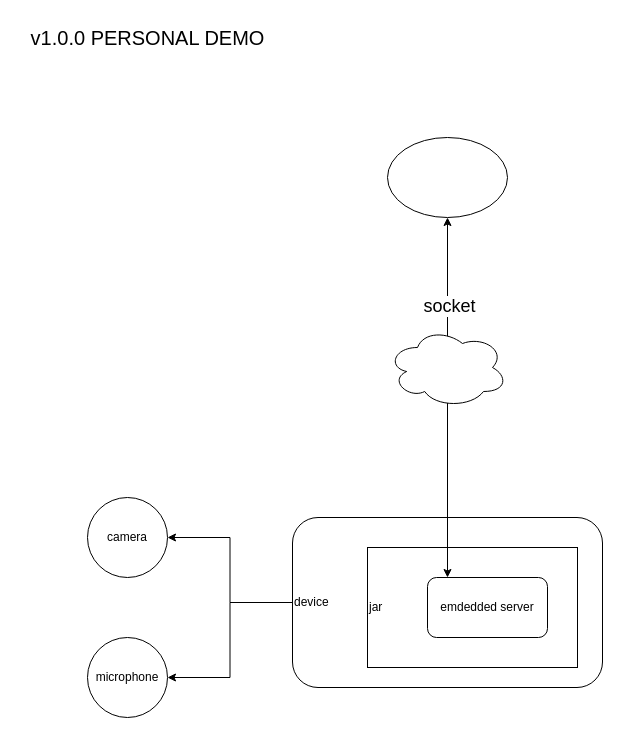
The diagram is 620 pixels wide and 735 high, and some of its shapes have lost their labels. Here are the shapes that lost their labels. From the top down, the centre of each, then its label:
(x=447, y=177): client
(x=447, y=367): ngrok
